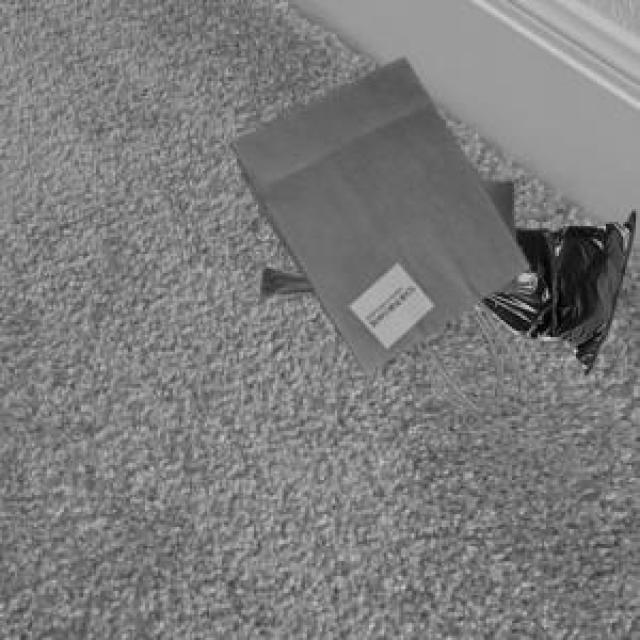miscellaneous trash: (478, 207, 630, 369)
paper: (226, 56, 525, 408)
